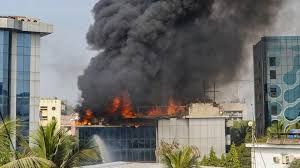smoke: (71, 1, 288, 103)
